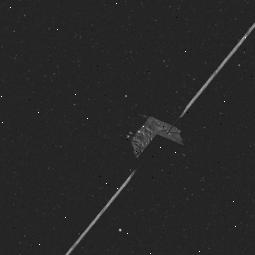smart_1: (88, 52, 234, 220)
